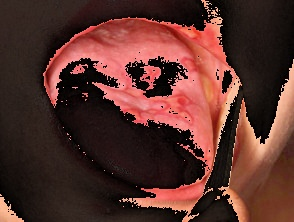SJS-TEN: (102, 62, 192, 132), (170, 19, 208, 49), (179, 49, 206, 80)
